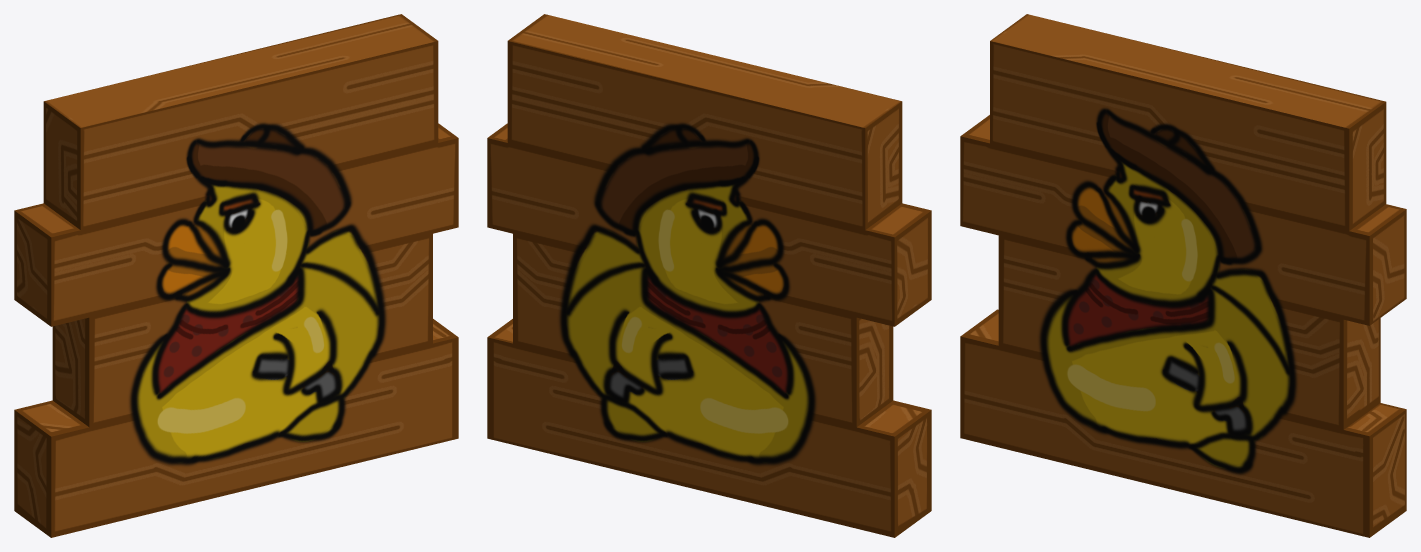
Rendered from Duck_Target.fbx.
3 views of the same model, side by side, from view 1: azimuth 30°, elevation 25°; view 2: azimuth 150°, elevation 25°; view 3: azimuth 330°, elevation 25° (orthographic).
Parts seen in each view (by area): view 1: Wooden_Backing; view 2: Wooden_Backing; view 3: Wooden_Backing.
Boxes of the visible parts, bbox=[...] form: Wooden_Backing: bbox=[14, 14, 458, 537]; Wooden_Backing: bbox=[487, 14, 931, 537]; Wooden_Backing: bbox=[960, 14, 1406, 537].
Size of the model in its own units: 106 by 100 by 16.63.
1 material, 1 textured.
